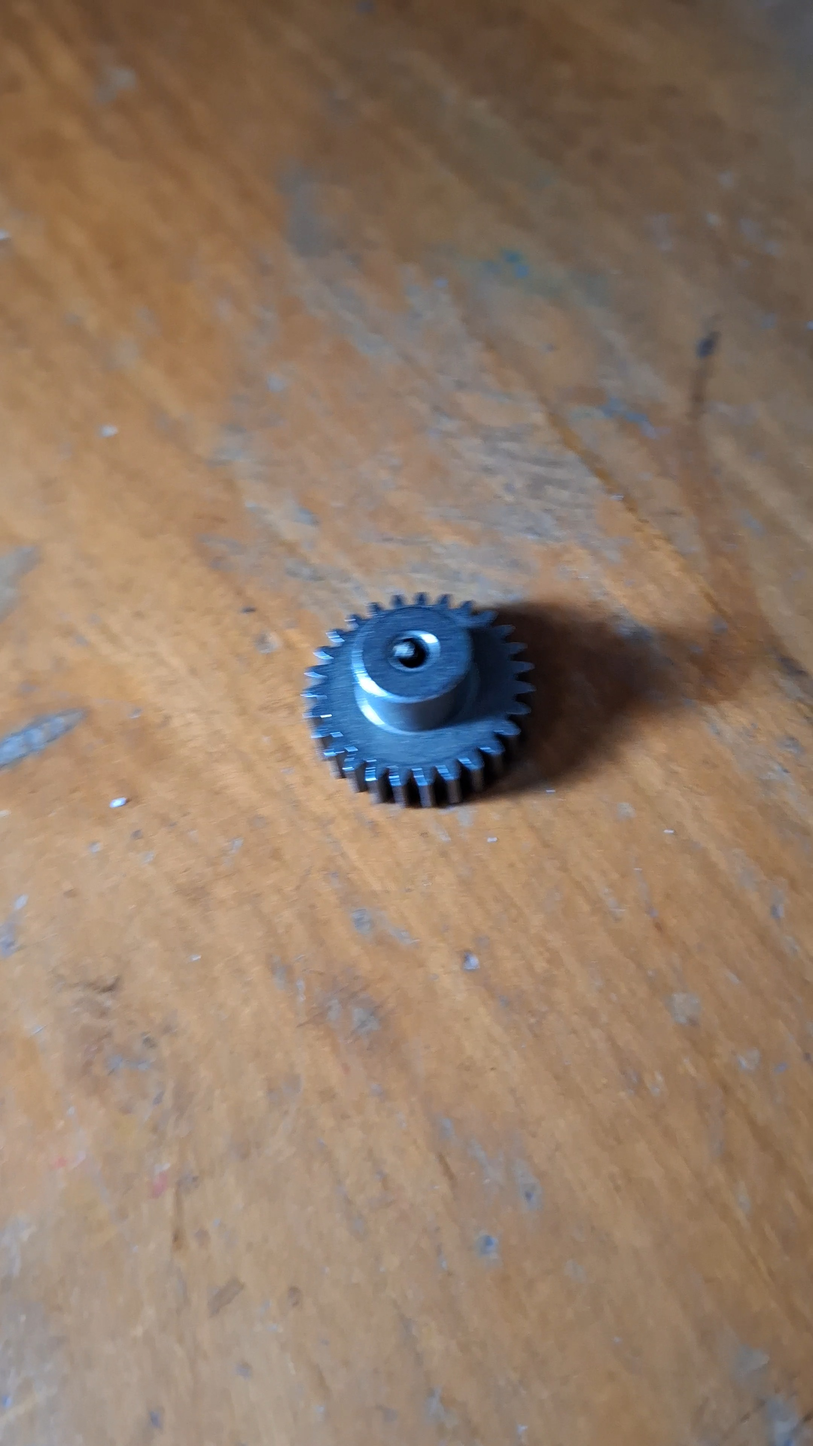spur gear: (304, 594, 534, 805)
